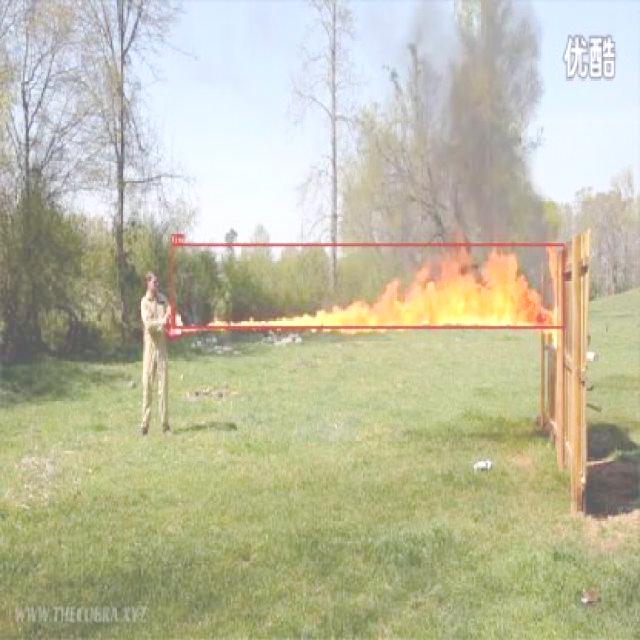fire: (170, 244, 564, 328)
